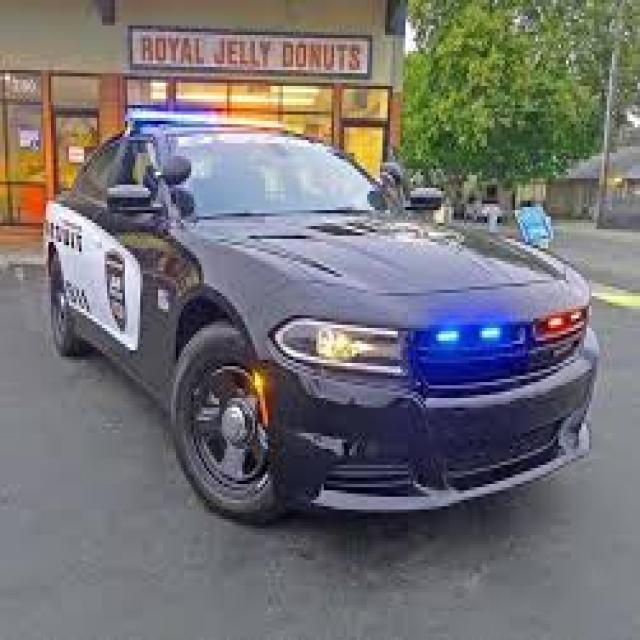cop: (42, 109, 606, 524)
